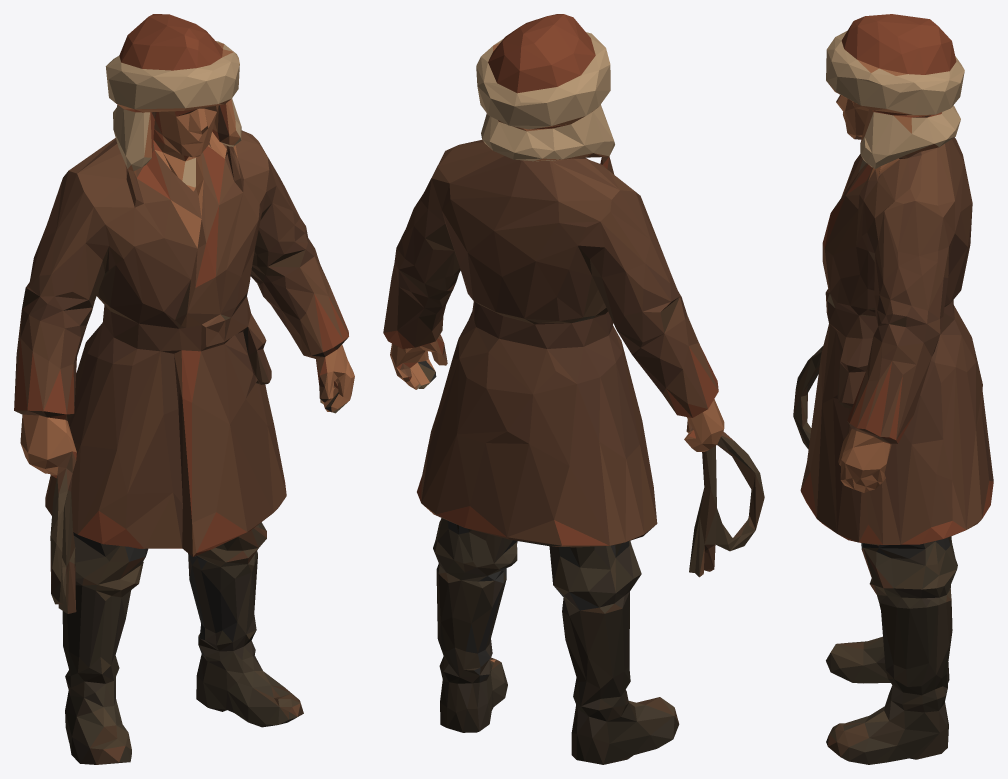
File: herder-dauren.blender.phone.glb
3 renders of one model, left to right at view 1: azimuth 30°, elevation 25°; view 2: azimuth 150°, elevation 25°; view 3: azimuth 270°, elevation 25°, orthographic.
Visible parts, largest first — view 1: herder-dauren-blender; view 2: herder-dauren-blender; view 3: herder-dauren-blender.
Part boxes in pixels (<box>): herder-dauren-blender: <box>14,14,354,764</box>; herder-dauren-blender: <box>383,14,764,764</box>; herder-dauren-blender: <box>793,14,993,764</box>.
Bounding box in the file's own units: 0.9193 × 1.85 × 0.4817.
